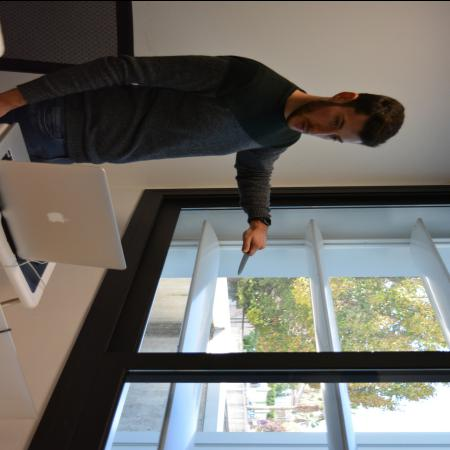long weapon: (236, 241, 258, 276)
